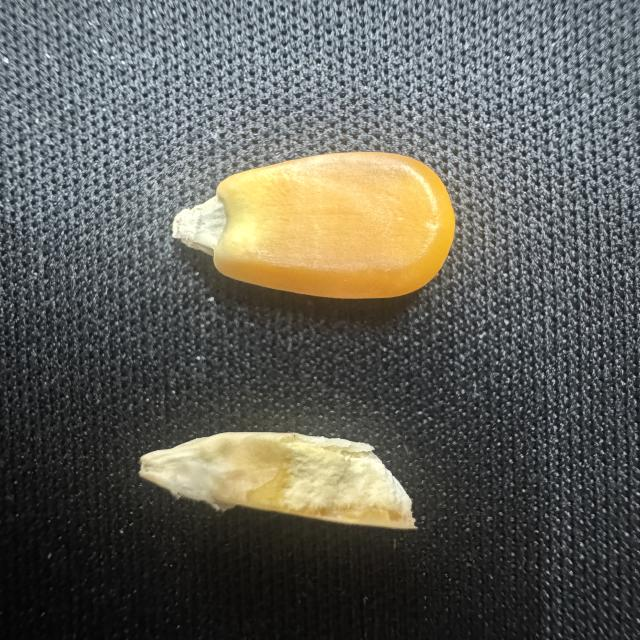Bad-Seed: (130, 421, 428, 540)
Good-Seed: (161, 146, 472, 308)
